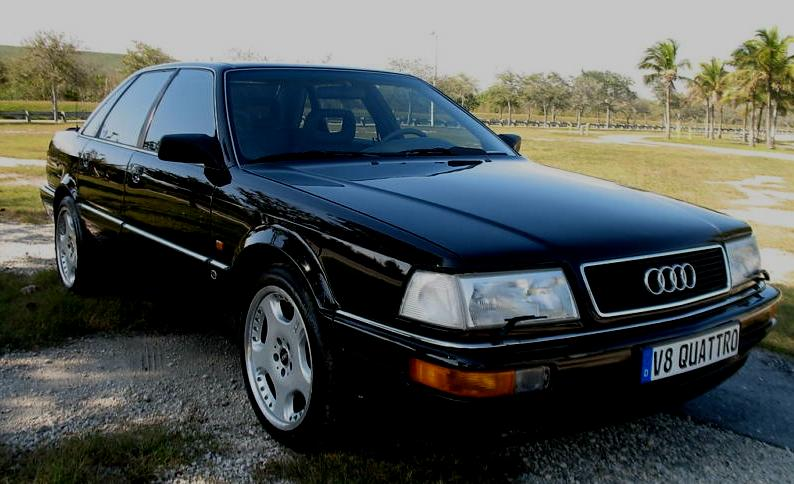Audi: (633, 254, 707, 302)
